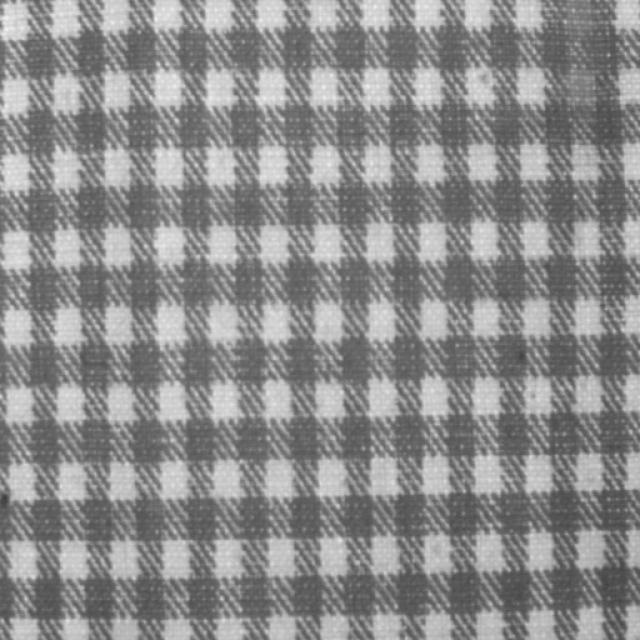Stain-Defect: (568, 0, 601, 108)
